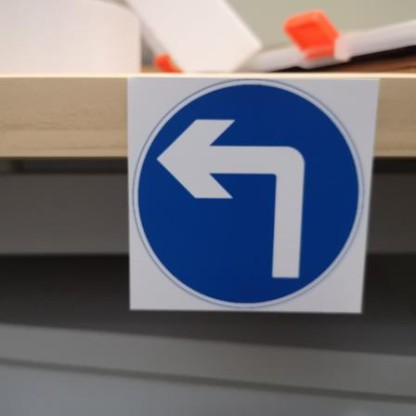left: (118, 69, 367, 316)
